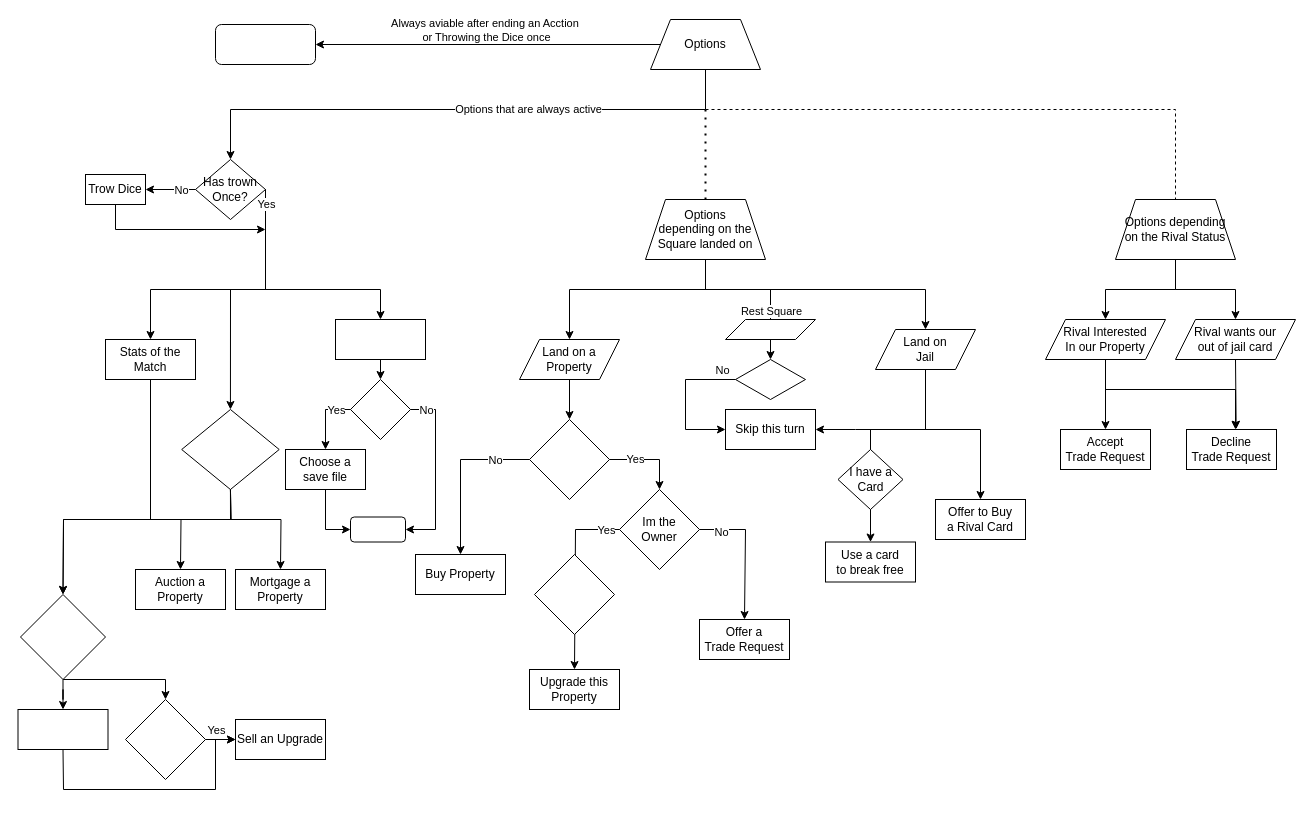
Image size: 1313x815. Some labels were removed from this diagram. The shapes that lost their labels are listed below. From the top down, each one's centre as x and y in pixels, then its label:
(265,44): Finish Turn
(380,339): Exit
(770,329): Throw Dice
(770,379): Doubles
(380,409): Save?
(230,449): Has 1 or more Properties
(569,459): Has a Owner?
(378,529): Menu
(574,594): Province Completed
(63,637): Provincia Completed
(62,729): Upgrade a Property
(165,739): Owns 1 Upgrade
